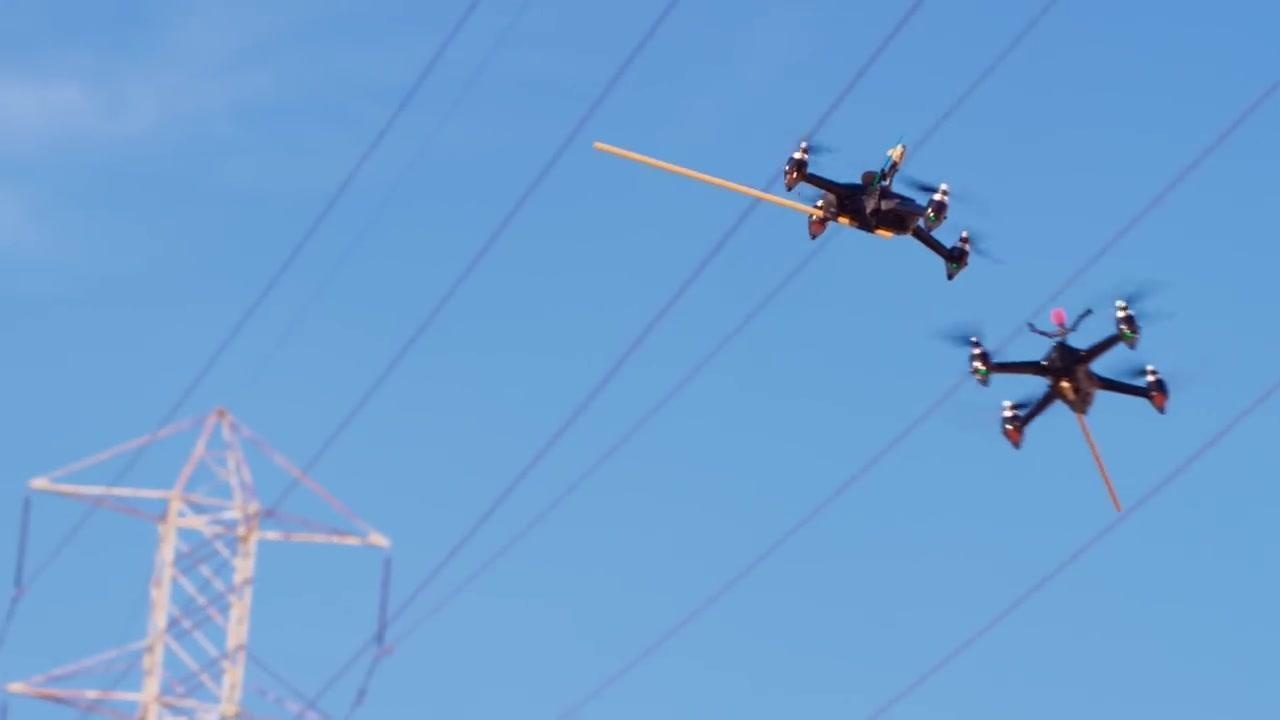UAV: (967, 293, 1173, 452), (782, 136, 977, 284)
